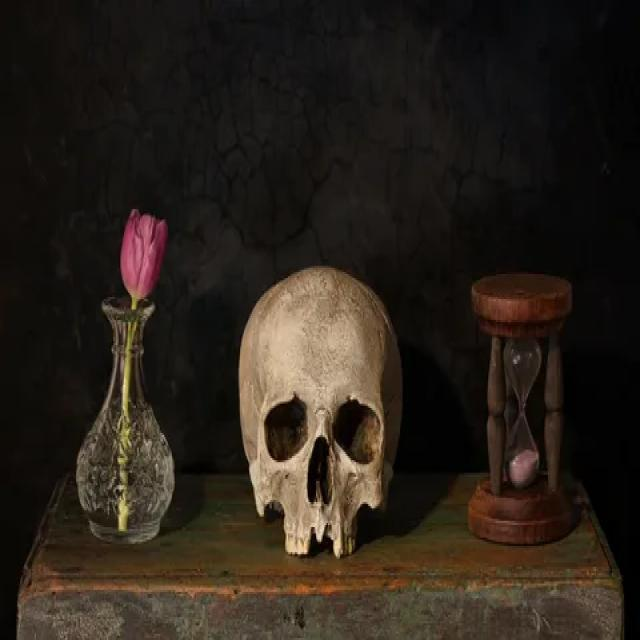clock: (463, 258, 596, 550)
